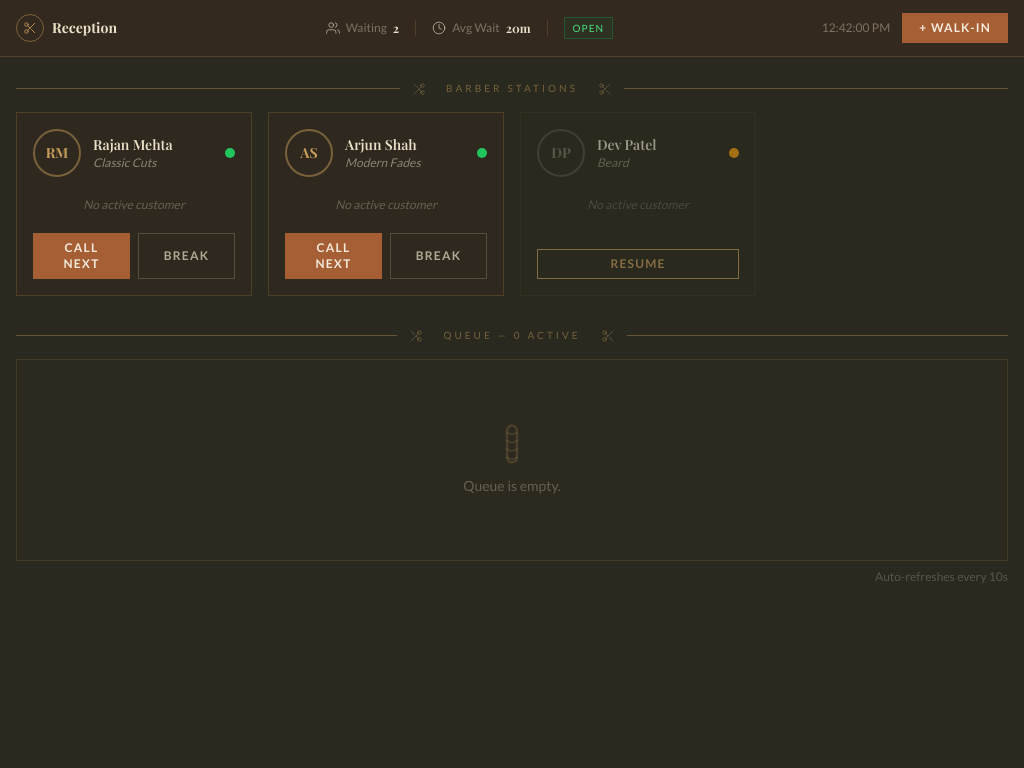
Test: ReceptionPage — walk-in modal › opens the walk-in modal when Add Walk-In is clicked
What coordinates should you click on to do the following:
click the button "+ Walk-In"
I would click on:
 (955, 28)
Its box is [902,13,1008,43].
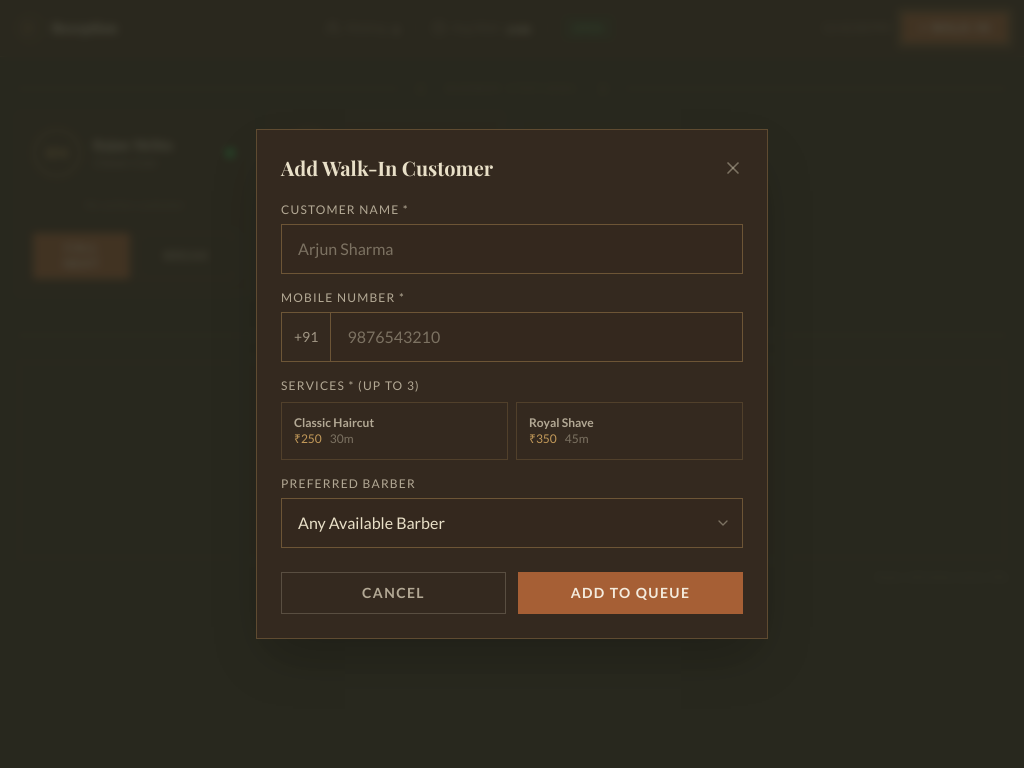
Now the dialog is shown
Now the heading "Add Walk-In Customer" is shown, box [281,154,493,182]
